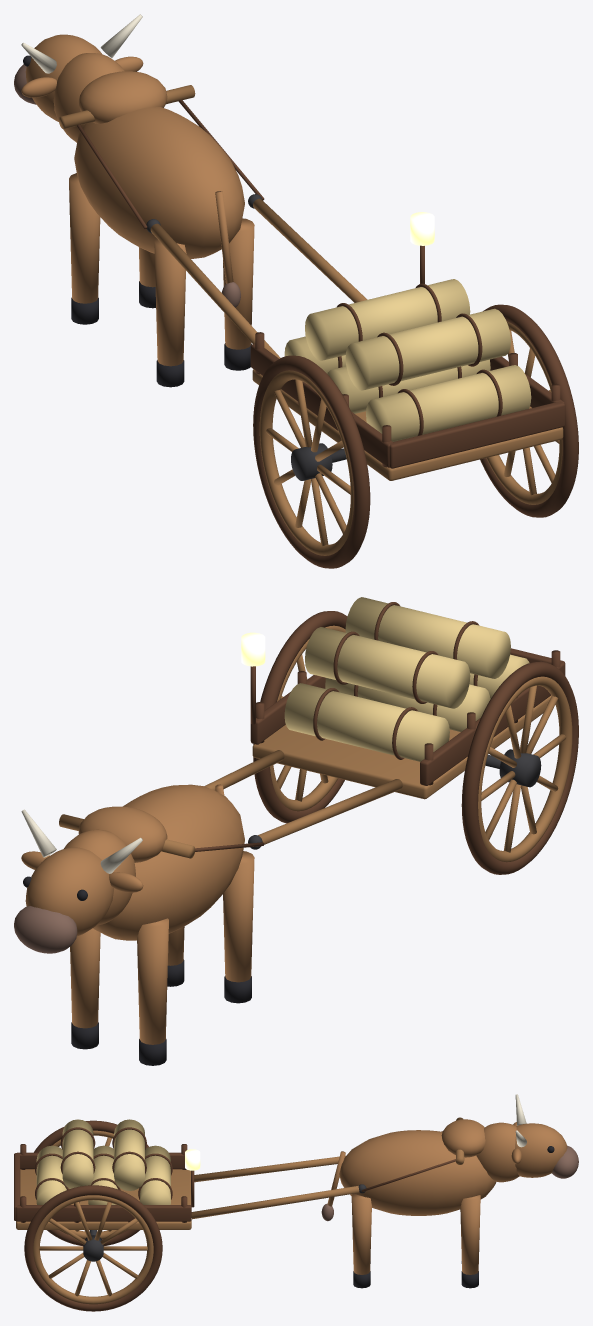
File: ox_cart.glb
3 renders of one model, top to bottom at view 1: azimuth 30°, elevation 25°; view 2: azimuth 150°, elevation 25°; view 3: azimuth 270°, elevation 25°, orthographic. The views are drawn at different scales.
Visible parts, largest first — view 1: Body, Ox, WheelL, WheelR; view 2: Body, Ox, WheelL, WheelR; view 3: Ox, Body, WheelR, WheelL.
Boxes of the visible parts, bbox=[...] form: Body: bbox=[59, 85, 565, 480]; Ox: bbox=[14, 14, 254, 387]; WheelL: bbox=[253, 355, 370, 568]; WheelR: bbox=[480, 304, 578, 517]; Body: bbox=[59, 597, 565, 858]; Ox: bbox=[14, 784, 254, 1065]; WheelL: bbox=[461, 661, 578, 874]; WheelR: bbox=[253, 611, 347, 823]; Ox: bbox=[321, 1094, 578, 1288]; Body: bbox=[14, 1117, 464, 1235]; WheelR: bbox=[24, 1185, 162, 1311]; WheelL: bbox=[34, 1120, 148, 1245].
Bounding box in the file's own units: 1.66 × 1.78 × 5.47.
